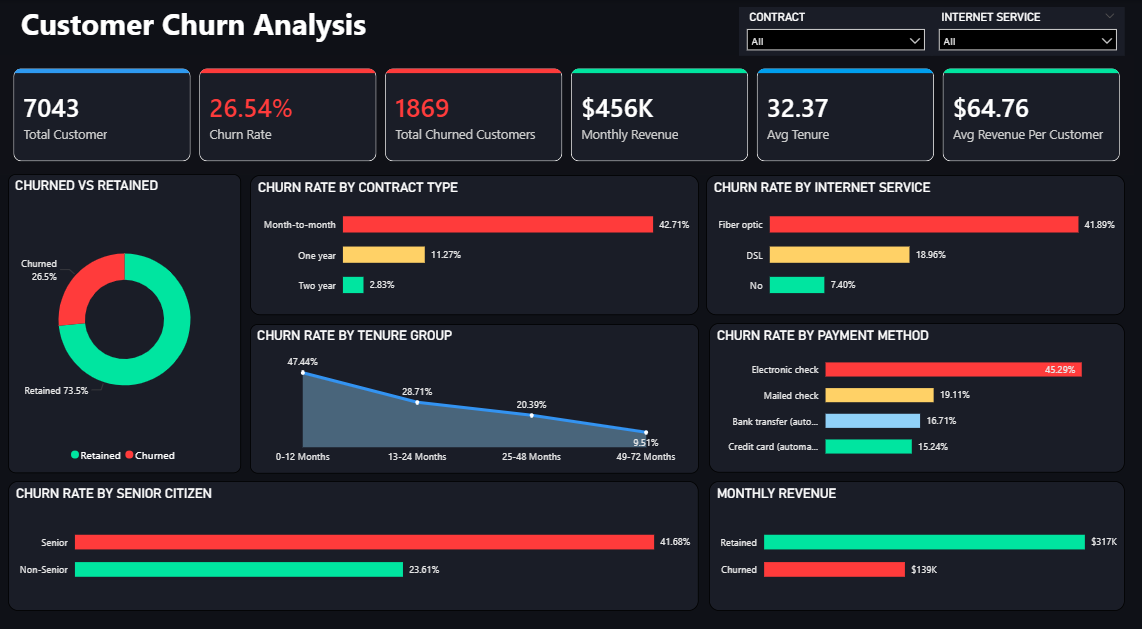

The dashboard page shown, as its layout file describes it:
{"tool":"powerbi","page":{"name":"Page 1","canvas":[1450,800],"ordinal":0},"visuals":[{"type":"donutChart","title":"CHURNED VS RETAINED","fields":{"Y":["CountNonNull(cleaned_churn.customer_id)"],"Category":["cleaned_churn.Churn Status"]},"box":[10.2,221,295.9,379.7],"z":0},{"type":"clusteredBarChart","title":"CHURN RATE BY CONTRACT TYPE","fields":{"Category":["cleaned_churn.contract"],"Y":["cleaned_churn.Churn Rate"]},"box":[317.5,222.2,570.2,177.8],"z":1000},{"type":"clusteredBarChart","title":"CHURN RATE BY INTERNET SERVICE","fields":{"Category":["cleaned_churn.internet_service"],"Y":["cleaned_churn.Churn Rate"]},"box":[896.5,222.2,532.1,177.8],"z":2000},{"type":"areaChart","title":"CHURN RATE BY TENURE GROUP","fields":{"Category":["cleaned_churn.Tenure Group"],"Y":["cleaned_churn.Churn Rate"]},"box":[317.5,411.4,570.2,190.5],"z":3000},{"type":"clusteredBarChart","title":"CHURN RATE BY PAYMENT METHOD","fields":{"Category":["cleaned_churn.payment_method"],"Y":["cleaned_churn.Churn Rate"]},"box":[900.3,410.2,528.3,190.5],"z":4000},{"type":"clusteredBarChart","title":"CHURN RATE BY SENIOR CITIZEN","fields":{"Y":["cleaned_churn.Churn Rate"],"Category":["cleaned_churn.Senior Citizens"]},"box":[10.2,610.8,877.5,165.1],"z":5000},{"type":"cardVisual","fields":{"Data":["cleaned_churn.Total Customer","cleaned_churn.Churn Rate","cleaned_churn.Total Churned Customers","cleaned_churn.Monthly Revenue","cleaned_churn.Avg Tenure","cleaned_churn.Avg Revenue Per Customer"]},"box":[0,69.8,1440,152.4],"z":7000},{"type":"slicer","fields":{"Values":["cleaned_churn.contract"]},"box":[938.4,8.9,246.3,62.2],"z":8000},{"type":"textbox","box":[21.6,0,480,71.1],"z":9000},{"type":"clusteredBarChart","title":"MONTHLY REVENUE","fields":{"Category":["cleaned_churn.Churn Status"],"Y":["cleaned_churn.Monthly Revenue"]},"box":[900.3,610.8,528.3,165.1],"z":10000},{"type":"slicer","fields":{"Values":["cleaned_churn.internet_service"]},"box":[1182.2,8.9,246.3,62.2],"z":10001}]}

Visuals, with their boxes in screenshot pixels (x1, y1, x2, y2), scaled from the page's 1450x800 canvas onto the 1142x629 screenshot:
"CHURNED VS RETAINED" donutChart: 8, 174, 241, 472
"CHURN RATE BY CONTRACT TYPE" clusteredBarChart: 250, 175, 699, 314
"CHURN RATE BY INTERNET SERVICE" clusteredBarChart: 706, 175, 1125, 314
"CHURN RATE BY TENURE GROUP" areaChart: 250, 323, 699, 473
"CHURN RATE BY PAYMENT METHOD" clusteredBarChart: 709, 323, 1125, 472
"CHURN RATE BY SENIOR CITIZEN" clusteredBarChart: 8, 480, 699, 610
cardVisual - cleaned_churn.Total Customer x cleaned_churn.Churn Rate: 0, 55, 1134, 175
slicer - cleaned_churn.contract: 739, 7, 933, 56
textbox: 17, 0, 395, 56
"MONTHLY REVENUE" clusteredBarChart: 709, 480, 1125, 610
slicer - cleaned_churn.internet_service: 931, 7, 1125, 56
